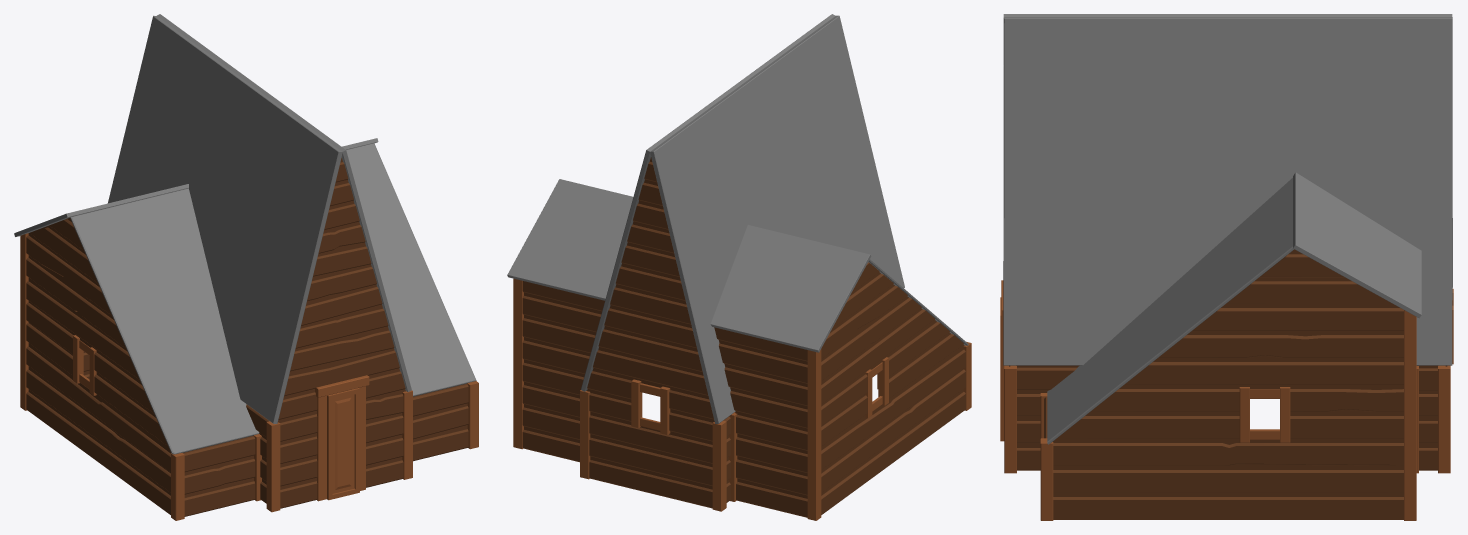
The model's file is House-L00A.fbx.
3 views of the same model, side by side, from view 1: azimuth 30°, elevation 25°; view 2: azimuth 150°, elevation 25°; view 3: azimuth 270°, elevation 25° (orthographic). The views are drawn at different scales.
Visible parts, largest first — view 1: Whole; view 2: Whole; view 3: Whole.
Boxes of the visible parts, left/top/right/bottom form: Whole: left=14, top=14, right=478, bottom=520; Whole: left=507, top=14, right=971, bottom=520; Whole: left=1000, top=14, right=1453, bottom=520.
Size of the model in its own units: 429 by 454 by 449.
